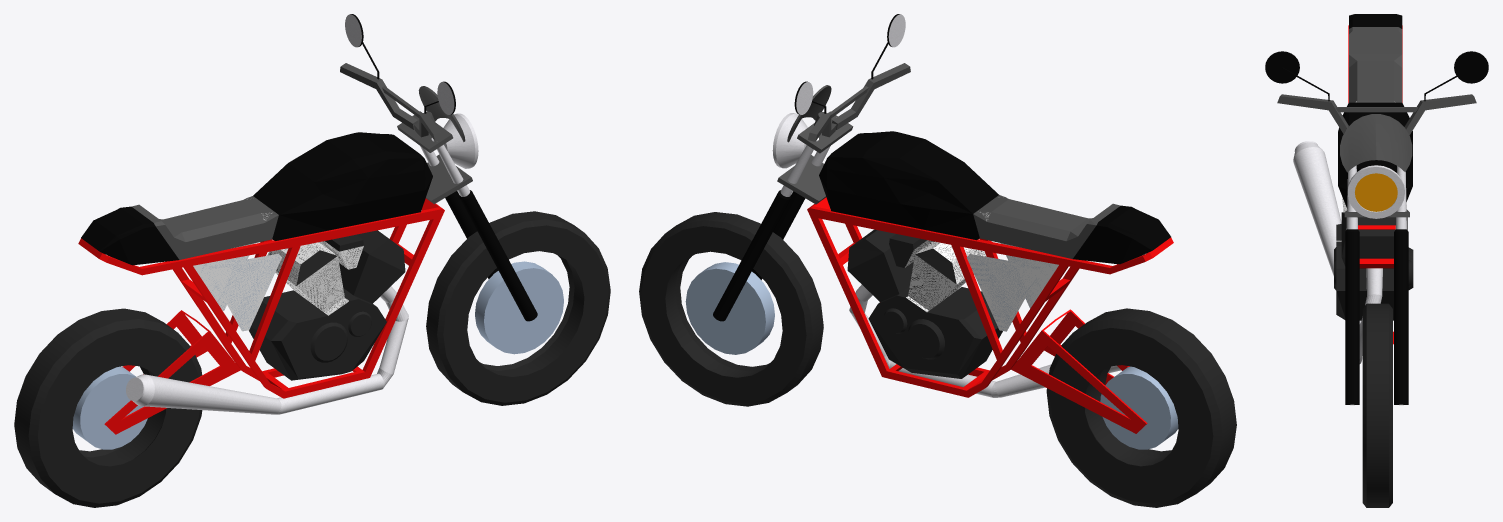
Rendered from bucca.dae.
3 views of the same model, side by side, from view 1: azimuth 30°, elevation 25°; view 2: azimuth 150°, elevation 25°; view 3: azimuth 270°, elevation 25° (orthographic). The views are drawn at different scales.
Parts seen in each view (by area): view 1: group_11 (×3), group_8 (×3), group_9 (×3), group_1 (×4), group_17, group_2, group_12 (×2), group_5, group_19, group_7, group_0, group_4 (+4 smaller); view 2: group_11 (×3), group_8 (×3), group_9 (×3), group_1 (×3), group_17, group_12 (×2), group_20, group_3, group_2, group_7, group_4, group_15 (+3 smaller); view 3: group_9 (×3), group_8, group_2, group_1, group_16, group_3 (×2), group_19 (×2), group_7 (×2), group_13, group_14, group_0, group_15 (+1 smaller).
Boxes of the visible parts, bbox=[...] form: group_11 (×3): bbox=[14, 308, 202, 507]; group_8 (×3): bbox=[426, 211, 610, 405]; group_9 (×3): bbox=[81, 132, 432, 265]; group_1 (×4): bbox=[249, 230, 405, 380]; group_17: bbox=[78, 198, 444, 398]; group_2: bbox=[126, 286, 408, 414]; group_12 (×2): bbox=[104, 310, 240, 434]; group_5: bbox=[208, 253, 281, 331]; group_19: bbox=[459, 190, 537, 321]; group_7: bbox=[443, 113, 478, 168]; group_0: bbox=[340, 63, 418, 129]; group_4: bbox=[426, 154, 472, 204]; group_11 (×3): bbox=[1046, 308, 1236, 507]; group_8 (×3): bbox=[639, 212, 823, 406]; group_9 (×3): bbox=[819, 131, 1170, 264]; group_1 (×3): bbox=[847, 229, 1002, 378]; group_17: bbox=[807, 197, 1173, 397]; group_12 (×2): bbox=[1011, 309, 1147, 433]; group_20: bbox=[966, 254, 1040, 331]; group_3: bbox=[713, 190, 791, 321]; group_2: bbox=[849, 284, 1120, 397]; group_7: bbox=[772, 113, 807, 168]; group_4: bbox=[777, 155, 826, 204]; group_15: bbox=[832, 63, 910, 129]; group_9 (×3): bbox=[1338, 14, 1412, 208]; group_8: bbox=[1362, 303, 1392, 507]; group_2: bbox=[1293, 141, 1382, 363]; group_1: bbox=[1336, 212, 1413, 320]; group_16: bbox=[1340, 114, 1412, 172]; group_3 (×2): bbox=[1394, 166, 1408, 404]; group_19 (×2): bbox=[1345, 165, 1359, 404]; group_7 (×2): bbox=[1347, 165, 1404, 218]; group_13: bbox=[1265, 51, 1329, 101]; group_14: bbox=[1424, 51, 1488, 101]; group_0: bbox=[1404, 94, 1476, 134]; group_15: bbox=[1277, 94, 1348, 133].
Bounding box in the file's own units: 70.37 × 22.81 × 43.72.
9 materials, 1 textured.
